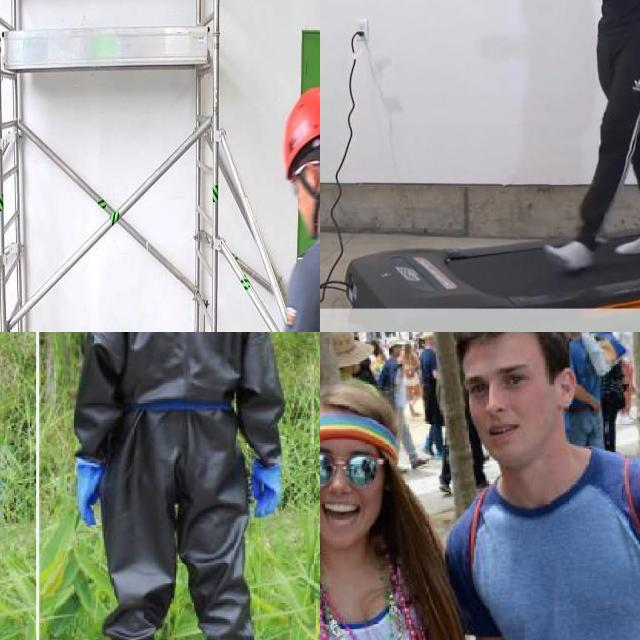No_Ear-Protection: (554, 367, 582, 409)
No_Glasses: (457, 362, 541, 402)
face_nomask: (464, 365, 540, 444), (320, 439, 383, 531)
glasses: (320, 431, 378, 494)
hand_glove: (248, 462, 287, 519), (73, 457, 101, 525)
head_nohelmet: (320, 371, 398, 425), (454, 332, 549, 351)
person: (46, 332, 297, 640), (441, 332, 640, 640), (320, 370, 513, 640), (542, 0, 640, 272)
